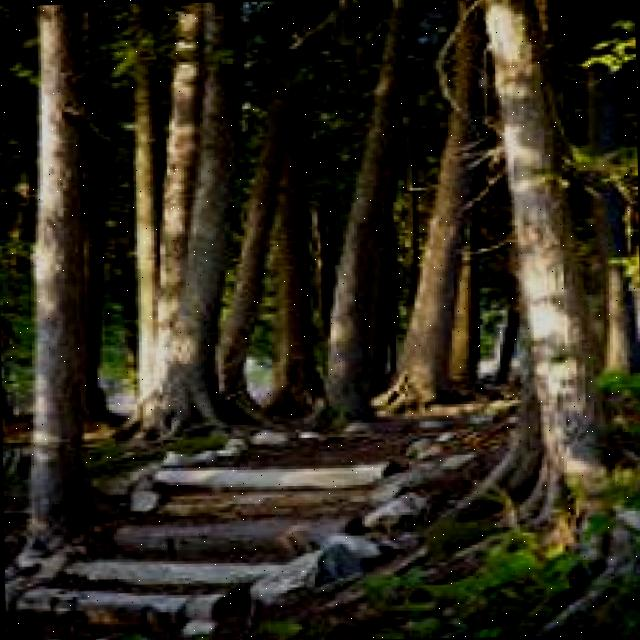stairs: (15, 403, 479, 640)
